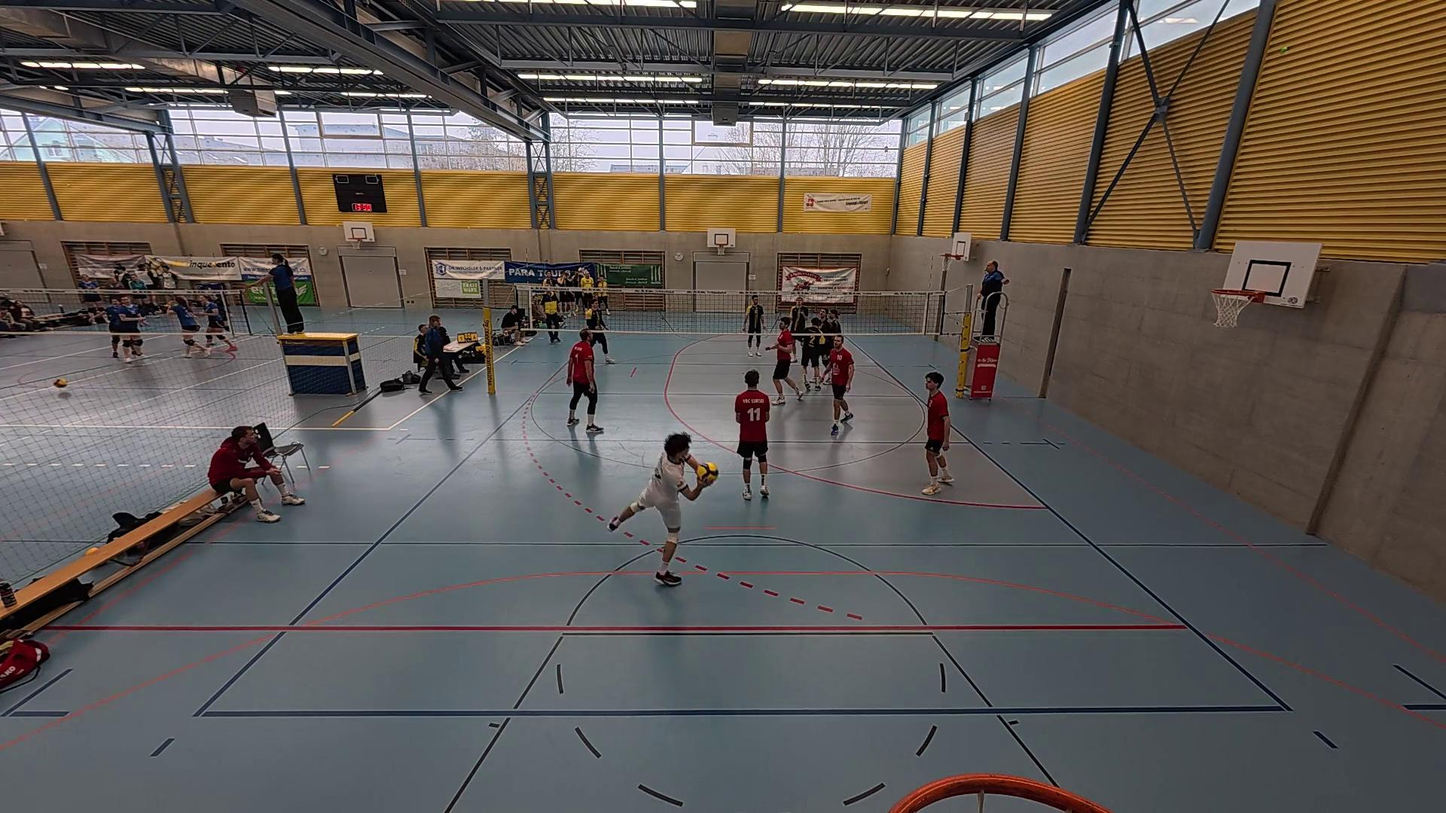Player: (606, 431, 714, 587), (733, 370, 773, 501), (920, 373, 955, 495), (565, 327, 602, 434), (825, 330, 856, 434), (769, 319, 799, 406), (797, 313, 826, 393), (783, 298, 813, 365), (585, 301, 615, 366), (828, 307, 848, 386), (744, 293, 767, 357), (816, 308, 831, 383)
ball: (696, 459, 718, 480)
